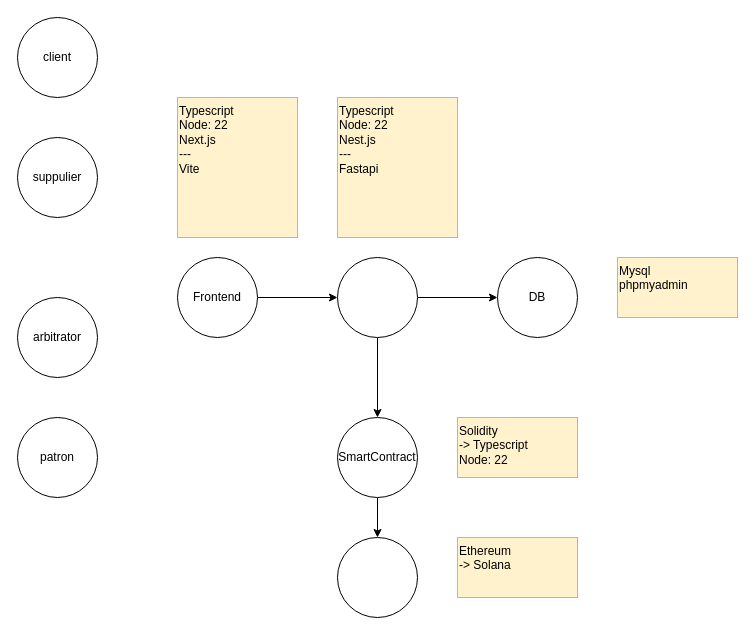
Image size: 755x635. Some labels were removed from this diagram. The shapes that lost their labels are listed below. From the top down, each one's box as (x1, y1, x2, y2) in pixels, then its label:
(336, 256, 418, 338): Backend
(336, 536, 418, 618): Blockchain
